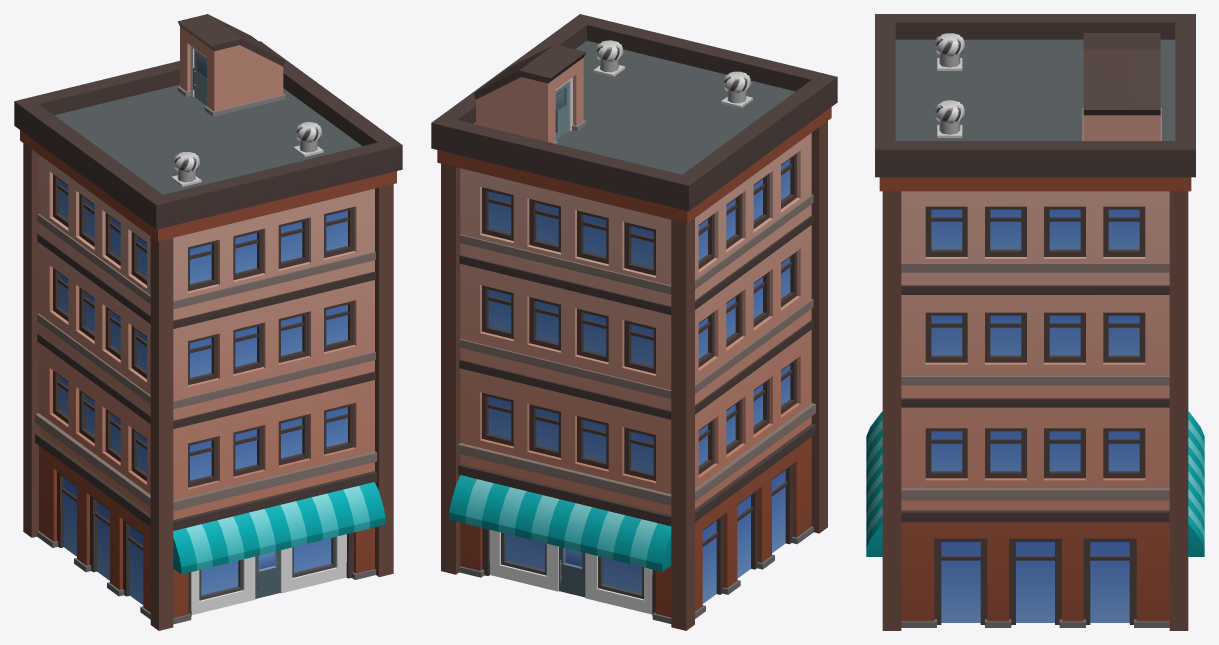
Rendered from residental_building_004.glb.
The picture shows the model from 3 angles, left to right: view 1: azimuth 30°, elevation 25°; view 2: azimuth 150°, elevation 25°; view 3: azimuth 270°, elevation 25°; orthographic projection. The views are drawn at different scales.
Visible parts, largest first — view 1: residental_building_004; view 2: residental_building_004; view 3: residental_building_004.
Boxes of the visible parts, box(x1,y1,x2,y2) form: residental_building_004: box(14, 14, 402, 630); residental_building_004: box(431, 14, 837, 630); residental_building_004: box(866, 14, 1204, 630).
Size of the model in its own units: 11.45 by 21.55 by 12.09.
1 material, 1 textured.
